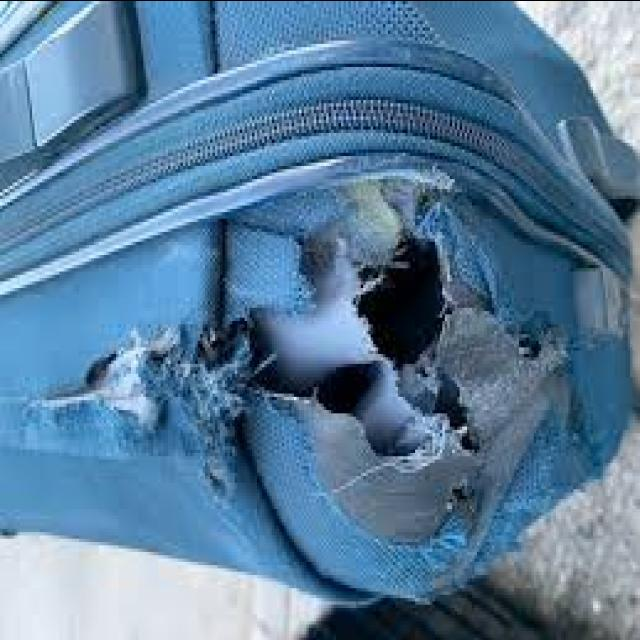Damage-bag: (0, 173, 622, 583)
